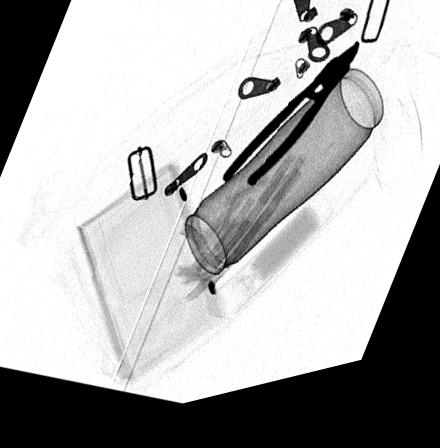Pliers: (220, 61, 356, 201)
